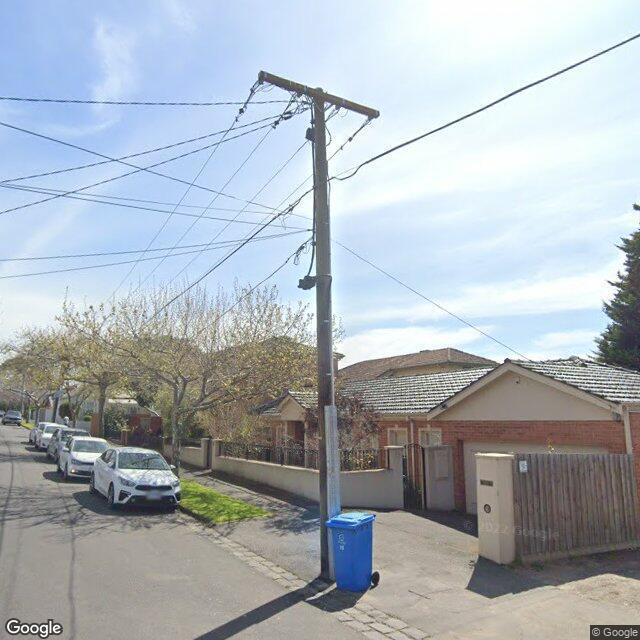crossarm: (258, 71, 380, 118)
timber-pole: (312, 88, 339, 581)
